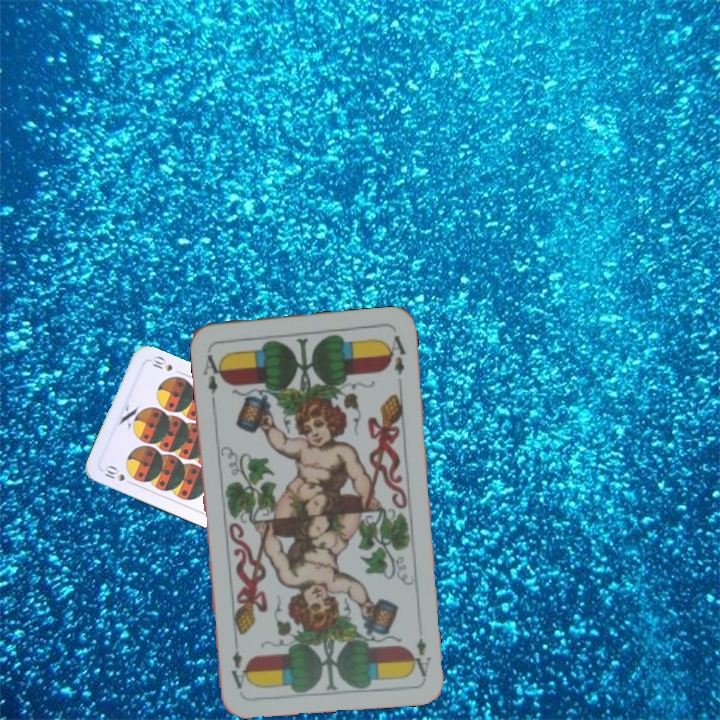EA: (198, 350, 226, 404), (406, 634, 433, 679)
S10: (100, 461, 137, 488)
